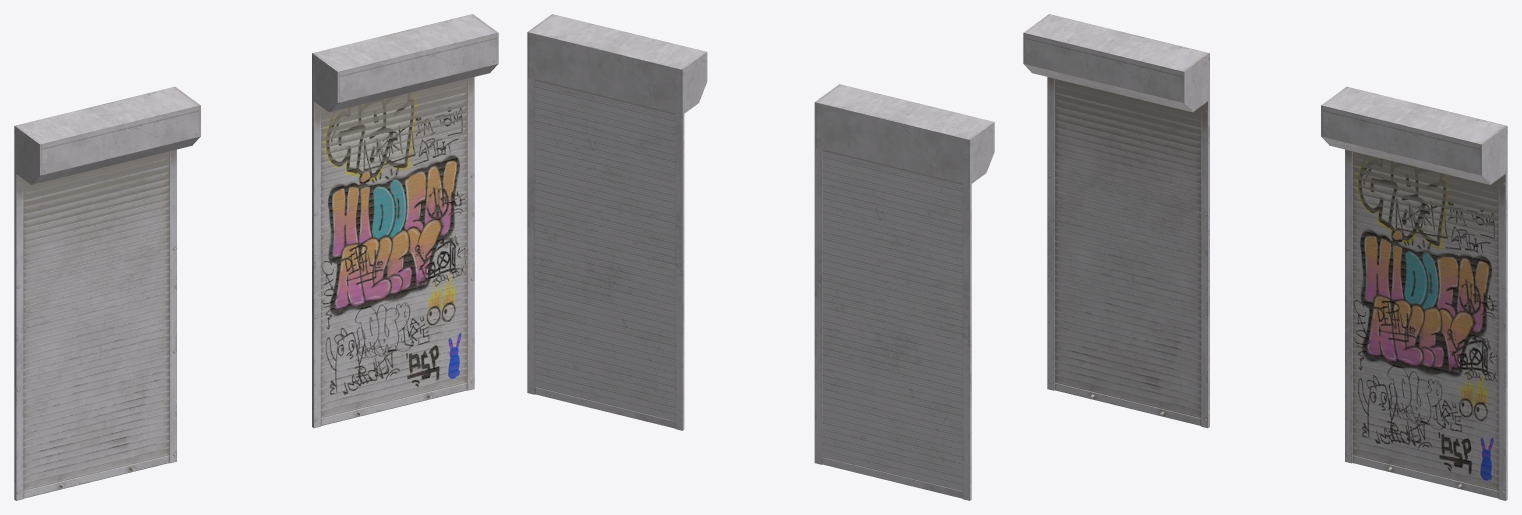
File: shutter.glb
The picture shows the model from 3 angles, left to right: view 1: azimuth 30°, elevation 25°; view 2: azimuth 150°, elevation 25°; view 3: azimuth 330°, elevation 25°; orthographic projection. The views are drawn at different scales.
Parts seen in each view (by area): view 1: rollershutter_door, rollershutter_door_graffiti; view 2: rollershutter_door, rollershutter_door_graffiti; view 3: rollershutter_door_graffiti, rollershutter_door.
Part boxes in pixels (left/top/right/bottom): rollershutter_door: left=14, top=86, right=200, bottom=500; rollershutter_door_graffiti: left=312, top=14, right=498, bottom=428; rollershutter_door: left=814, top=84, right=994, bottom=500; rollershutter_door_graffiti: left=527, top=14, right=707, bottom=430; rollershutter_door_graffiti: left=1321, top=86, right=1507, bottom=500; rollershutter_door: left=1023, top=14, right=1209, bottom=428.
Size of the model in its own units: 3.08 by 2.4 by 0.2991.
Materials: 2 (2 with a texture image).
